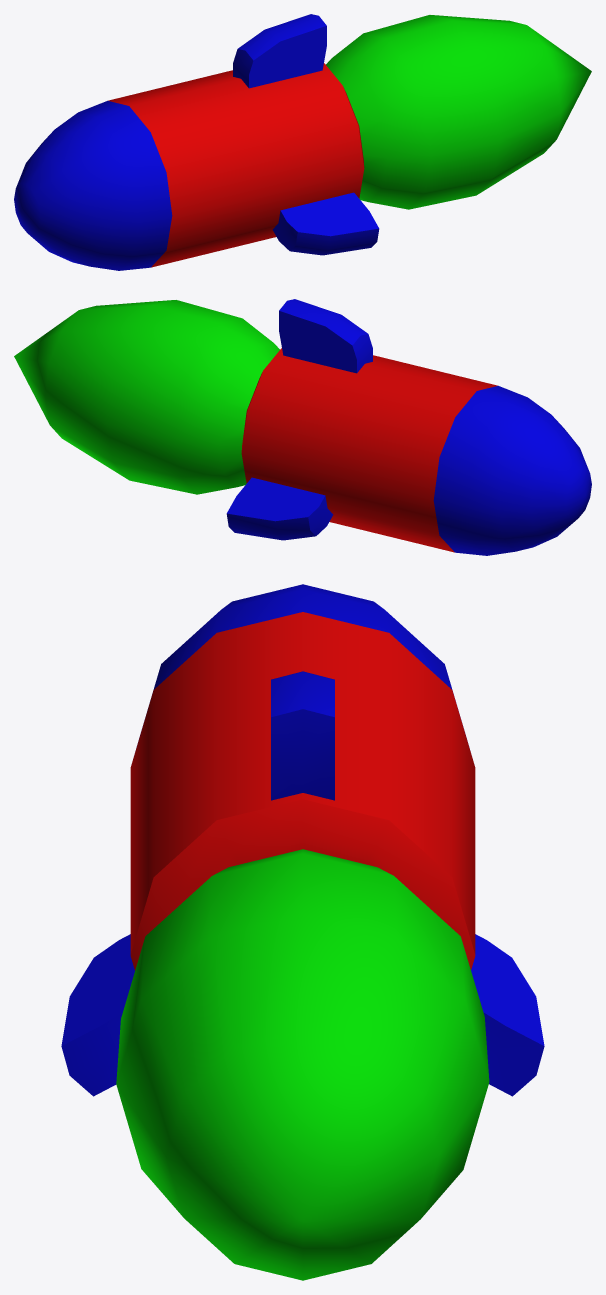
Rendered from missile.fbx.
3 views of the same model, one above another, from view 1: azimuth 30°, elevation 25°; view 2: azimuth 150°, elevation 25°; view 3: azimuth 270°, elevation 25° (orthographic). The views are drawn at different scales.
Parts seen in each view (by area): view 1: Cylinder039; view 2: Cylinder039; view 3: Cylinder039.
Part boxes in pixels (left/top/right/bottom): Cylinder039: left=14, top=14, right=591, bottom=270; Cylinder039: left=14, top=299, right=591, bottom=555; Cylinder039: left=61, top=584, right=544, bottom=1280.
Size of the model in its own units: 14.55 by 5.03 by 5.32.
